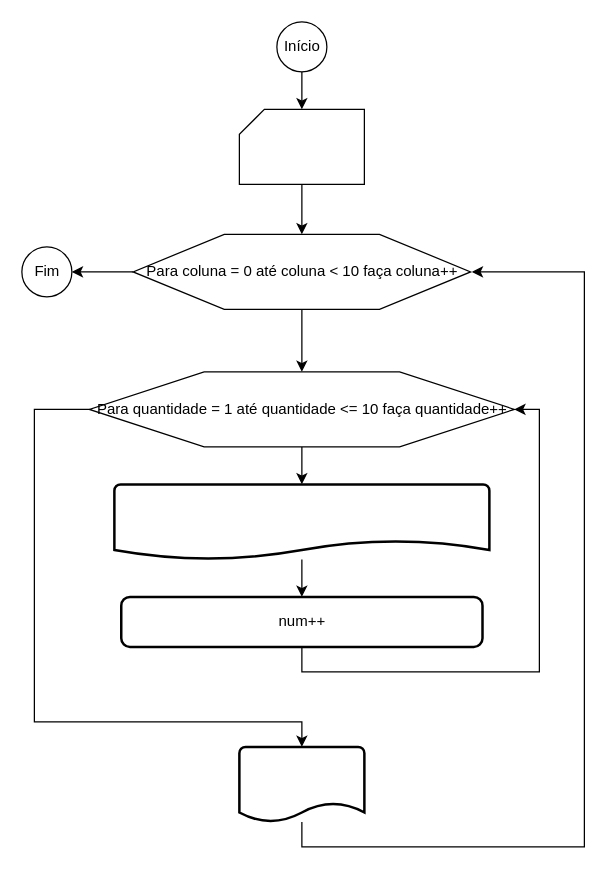
The diagram is 616 pixels wide and 879 high, and some of its shapes have lost their labels. The centre of each missing label's shape, as x and y in pixels:
Escreva << endl;: (x=301, y=783)
Escreva << num << " = " << valor * num << " R$ | ";: (x=301, y=521)
Ler valor: (x=301, y=146)
